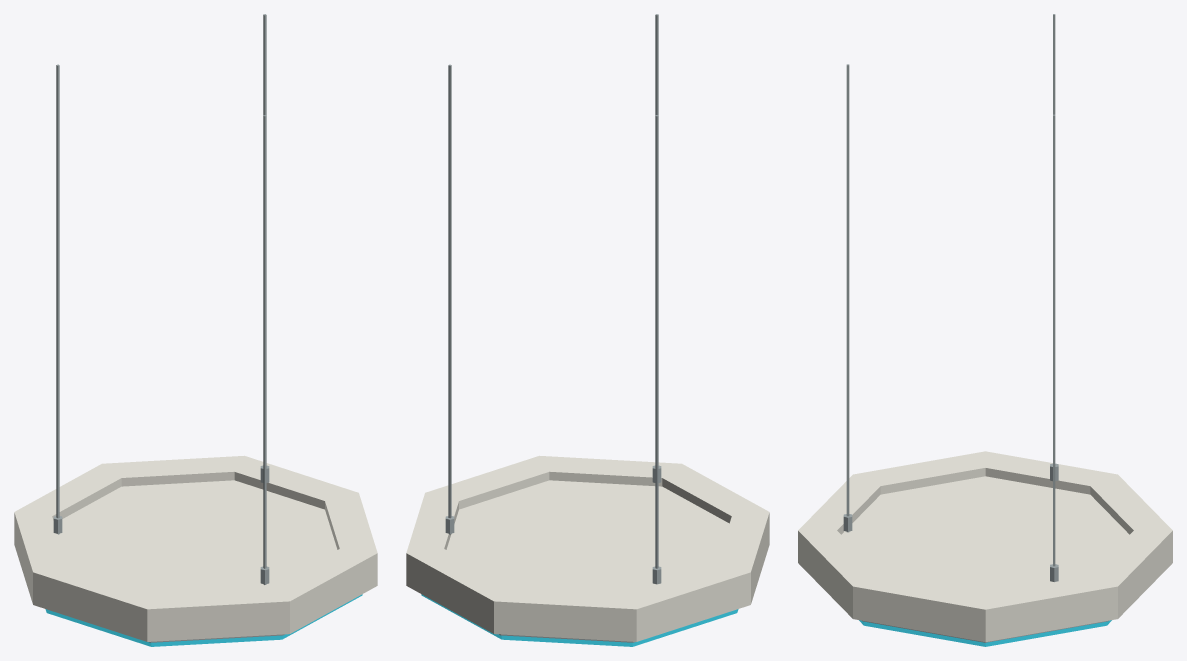
The model's file is light_pod.glb.
3 views of the same model, side by side, from view 1: azimuth 30°, elevation 25°; view 2: azimuth 150°, elevation 25°; view 3: azimuth 270°, elevation 25° (orthographic).
Parts seen in each view (by area): view 1: Aero_light_pod; view 2: Aero_light_pod; view 3: Aero_light_pod.
Boxes of the visible parts, left/top/right/bottom form: Aero_light_pod: left=14, top=14, right=377, bottom=646; Aero_light_pod: left=406, top=14, right=769, bottom=646; Aero_light_pod: left=798, top=14, right=1172, bottom=646.
Bounding box in the file's own units: 2.4 × 3.6 × 2.4.
3 materials, 3 textured.
